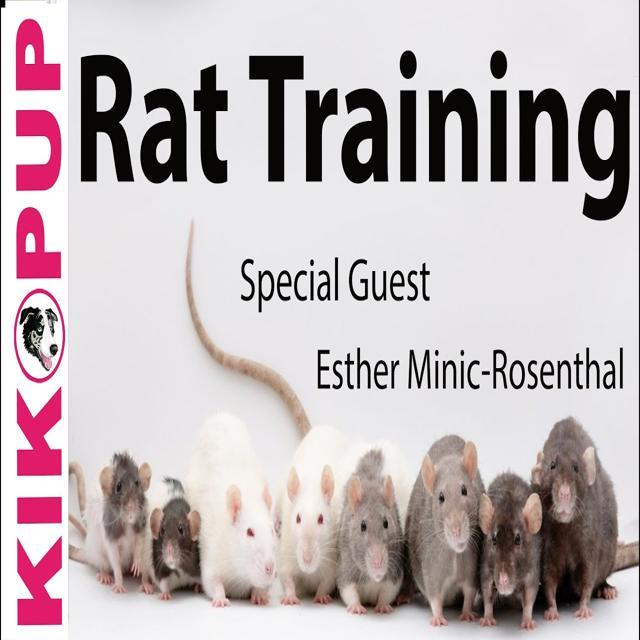rat: (534, 417, 640, 615), (195, 412, 281, 602), (405, 433, 487, 618), (332, 451, 408, 613), (68, 454, 151, 599), (477, 473, 546, 630), (284, 426, 329, 605), (150, 474, 203, 595)
